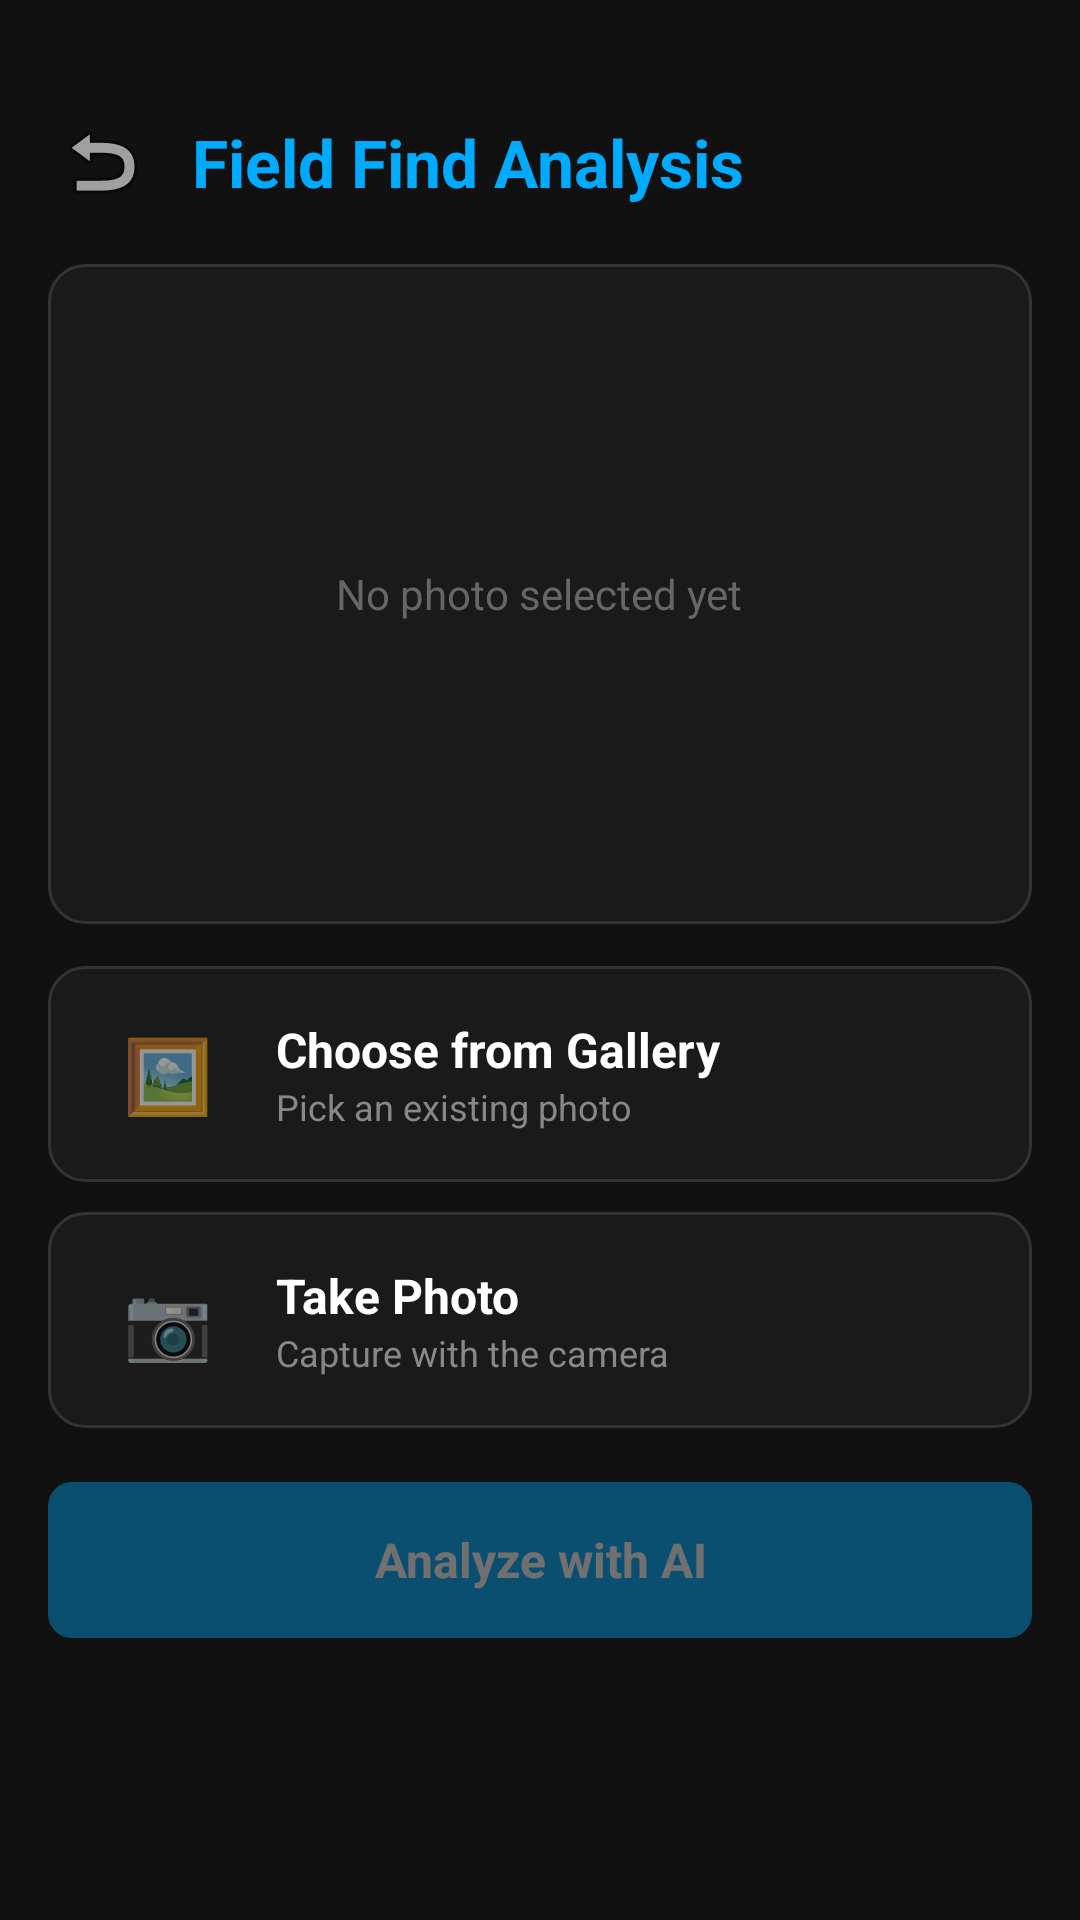

Icon bounding boxes for this 1080px×1920px phone screenshot, format (x1, y1, x2, y2):
revert: (72, 134, 135, 191)
